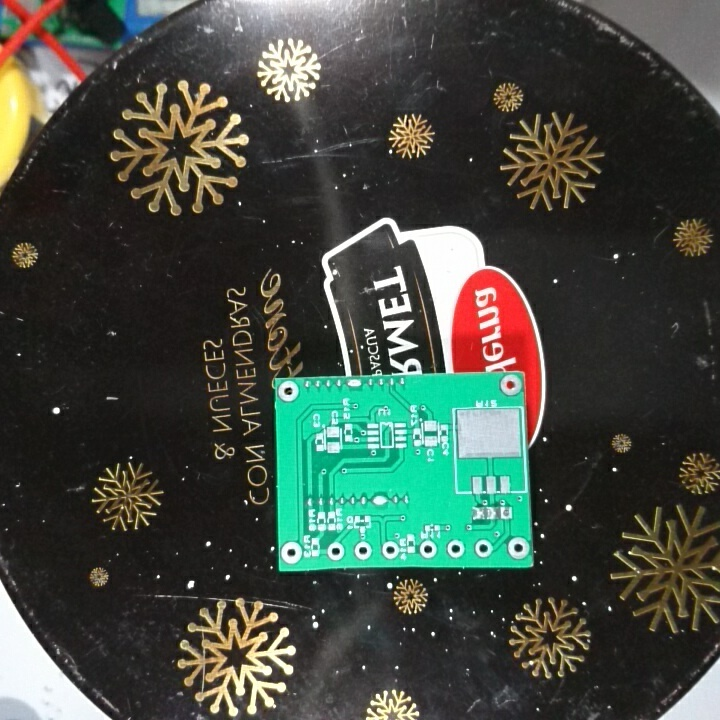F: (504, 532, 530, 562), (279, 540, 304, 568), (276, 379, 301, 406), (498, 372, 523, 398), (324, 540, 347, 562), (379, 538, 401, 561), (472, 537, 495, 559), (446, 536, 465, 561), (417, 538, 438, 559), (353, 538, 373, 560), (499, 503, 516, 523)
P: (369, 491, 392, 510), (344, 375, 364, 394)
